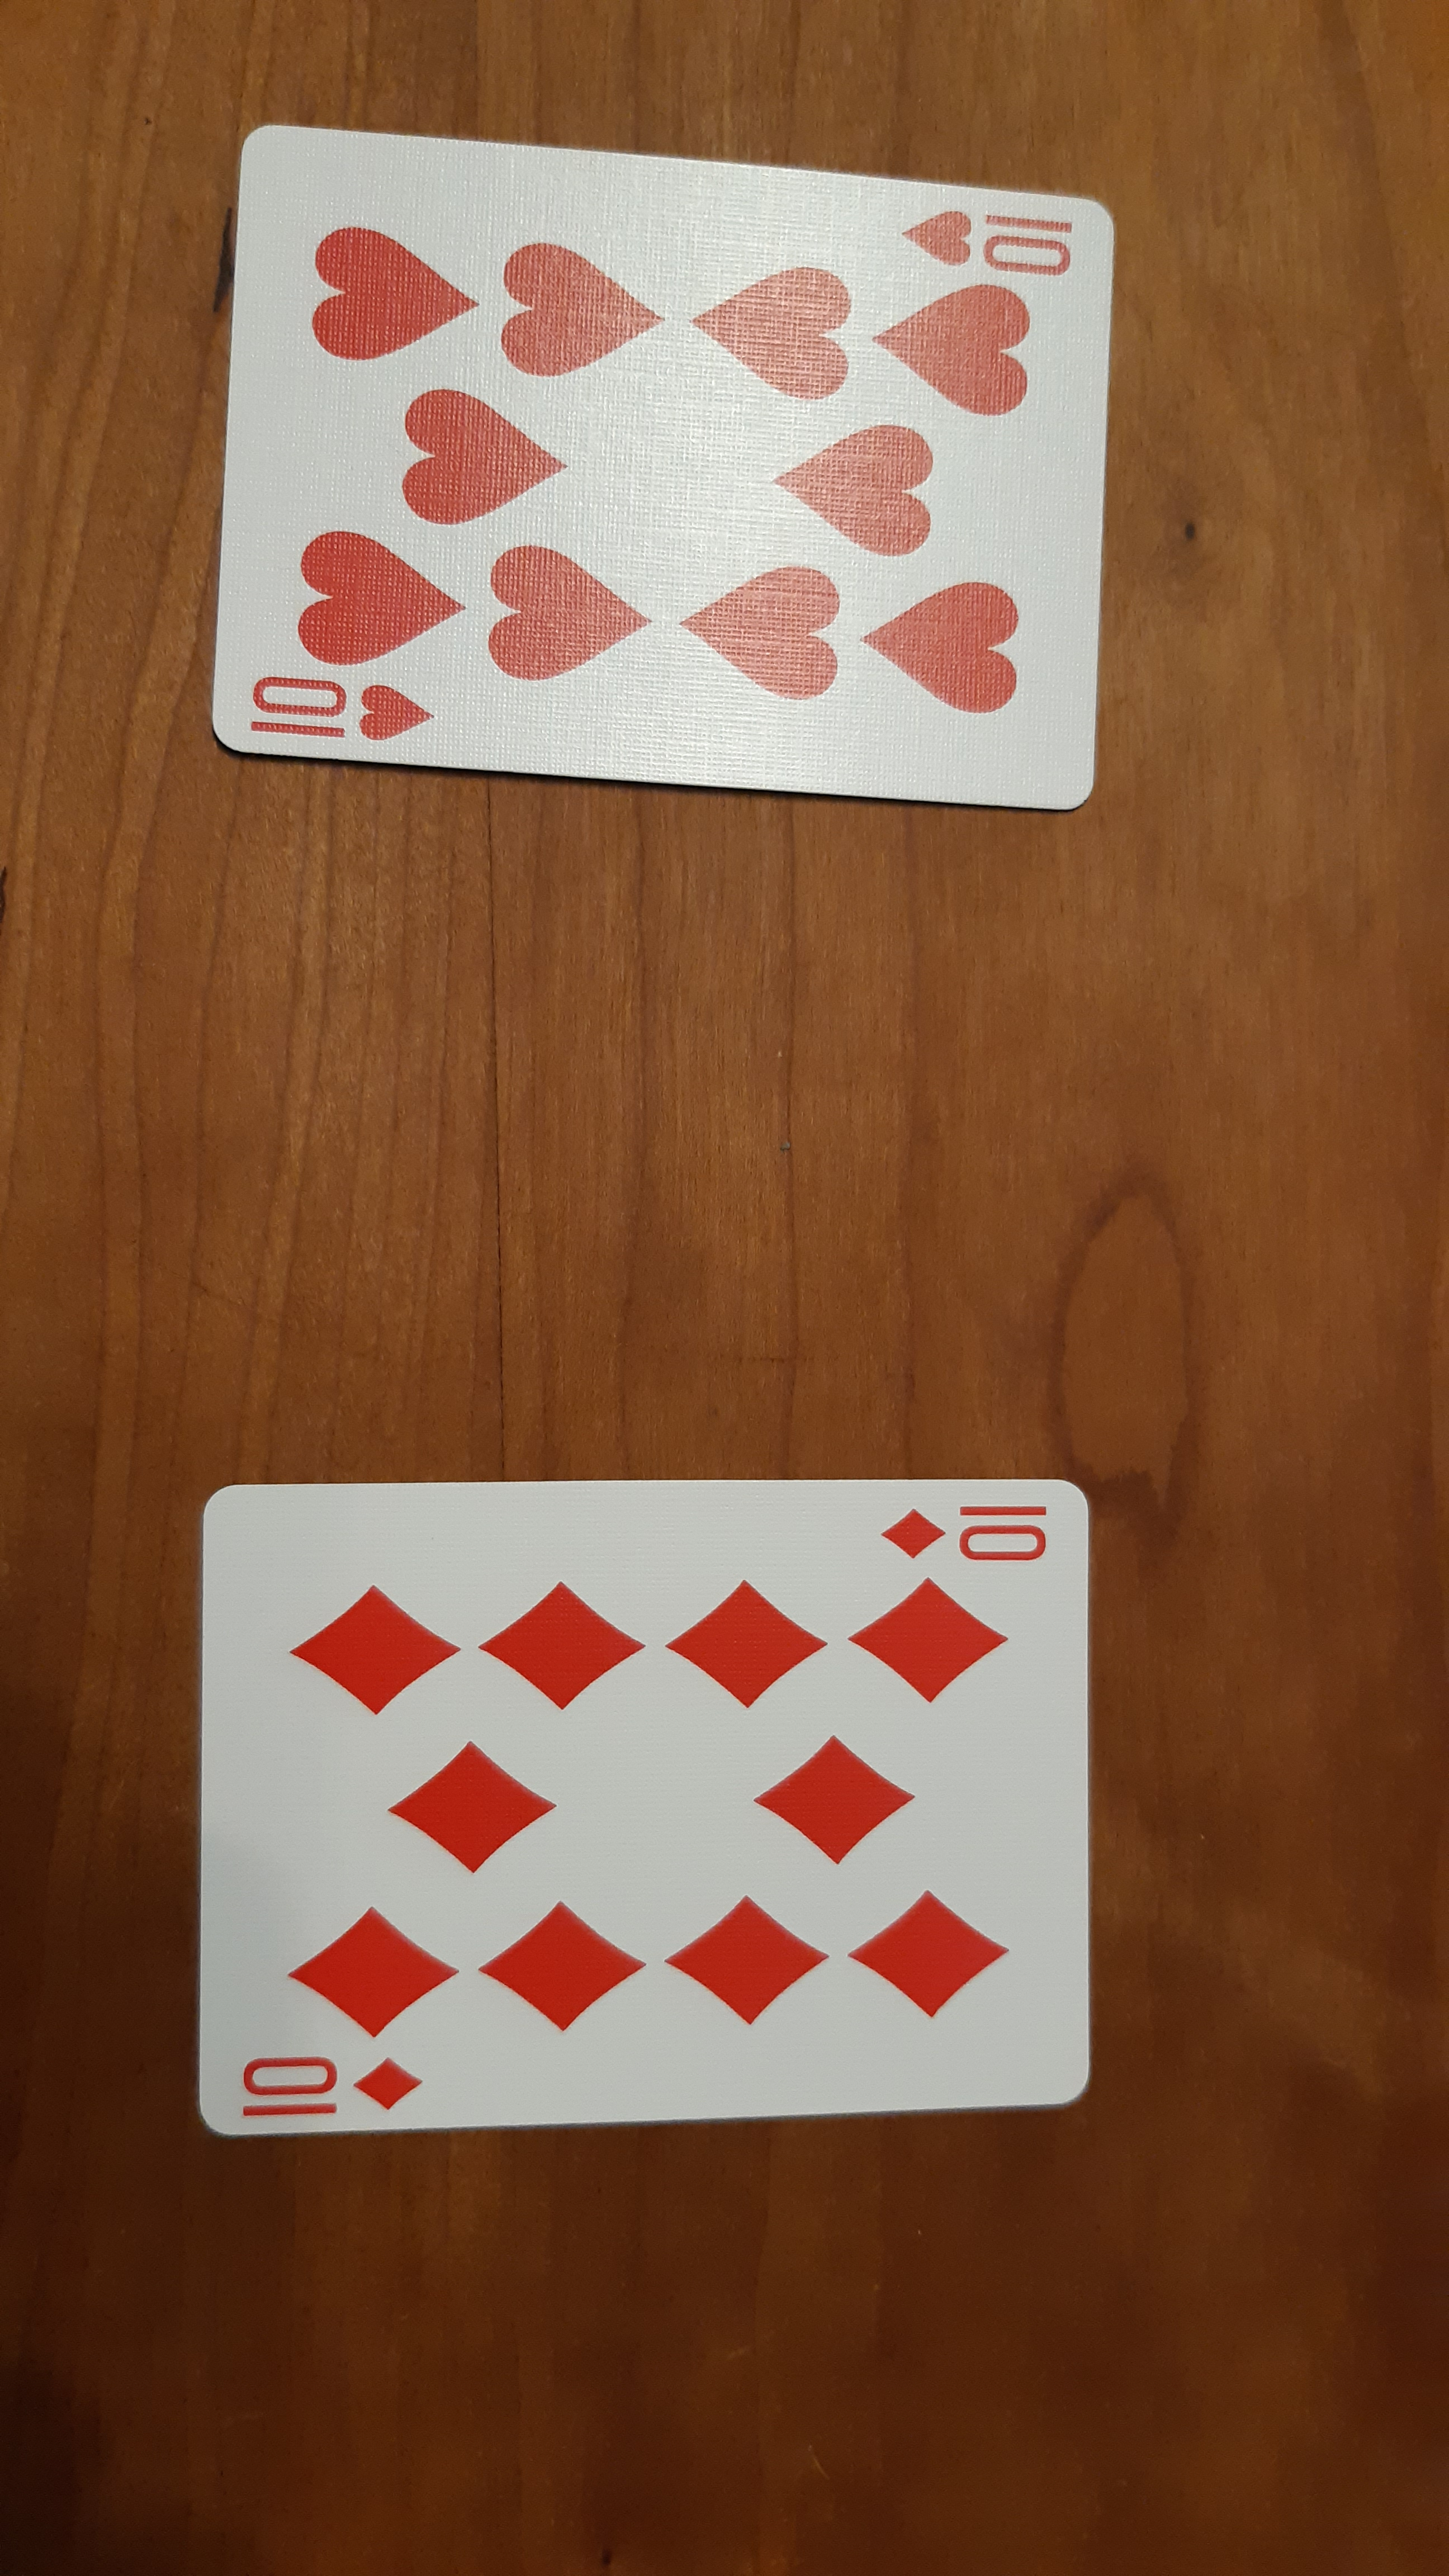Red_Diamond_10: (212, 2043, 439, 2123), (867, 1491, 1070, 1568)
Red_Heart_10: (235, 662, 439, 748), (892, 193, 1077, 283)
